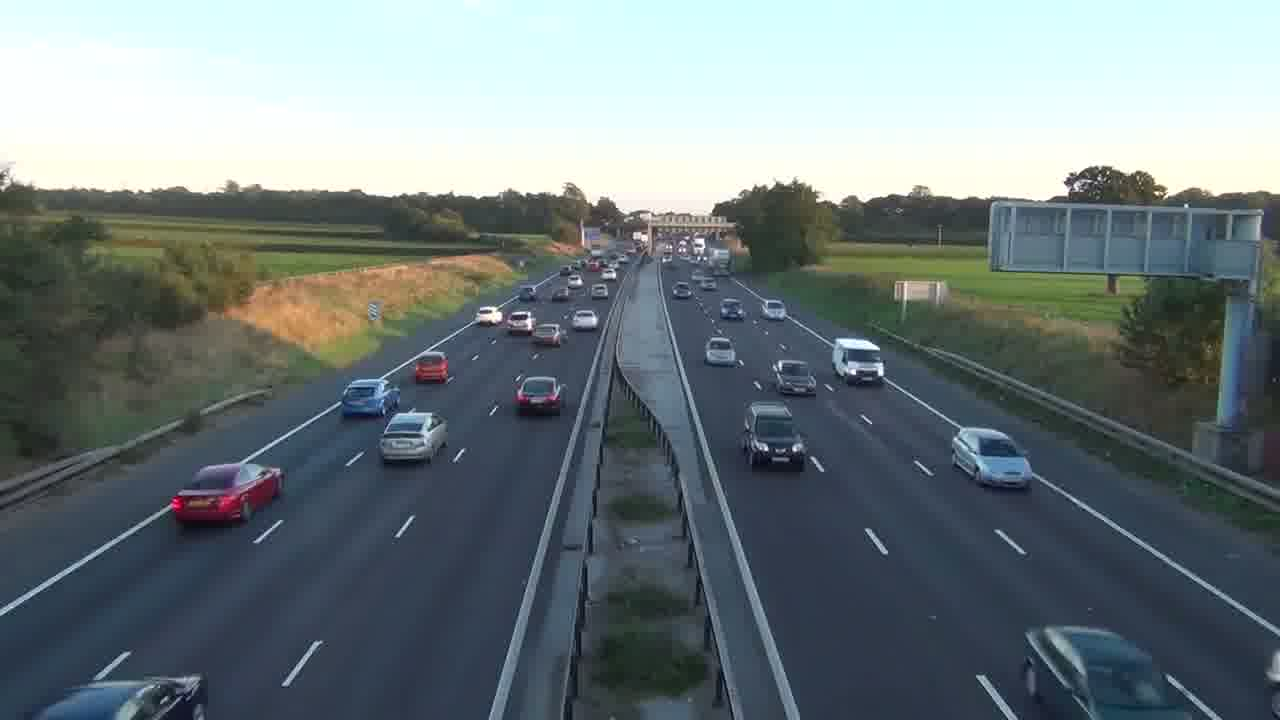car: (168, 461, 285, 526), (951, 426, 1032, 489), (379, 410, 449, 463), (513, 374, 564, 417), (341, 377, 394, 418), (770, 359, 817, 397), (414, 351, 452, 384), (704, 335, 742, 367), (531, 321, 563, 347), (570, 308, 599, 331), (719, 298, 746, 321), (672, 281, 692, 299)
truck: (738, 400, 807, 471), (831, 337, 886, 386)
